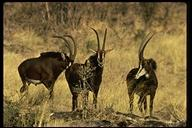antelope: (16, 32, 77, 102), (64, 25, 109, 112), (124, 30, 158, 118)
grass: (156, 38, 184, 59)
